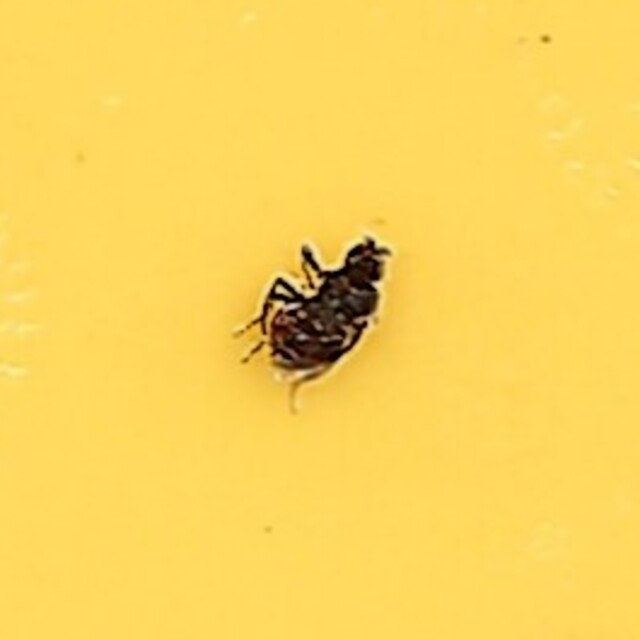Brachycera: (242, 228, 398, 412)
